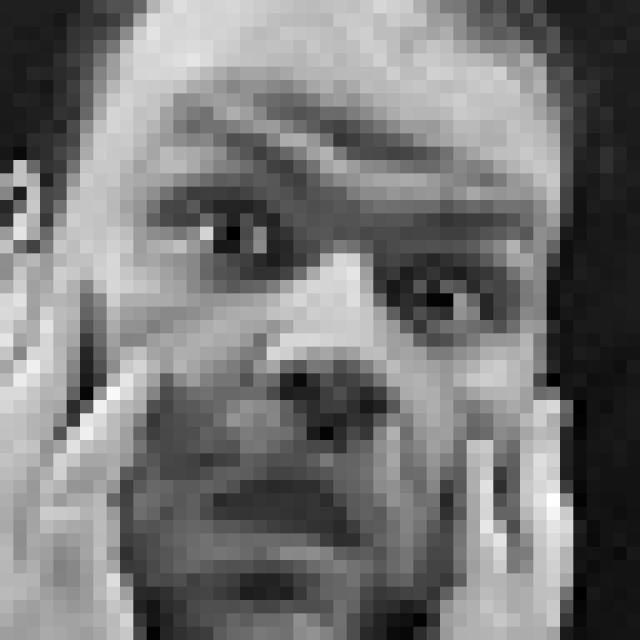fear: (102, 76, 560, 590)
